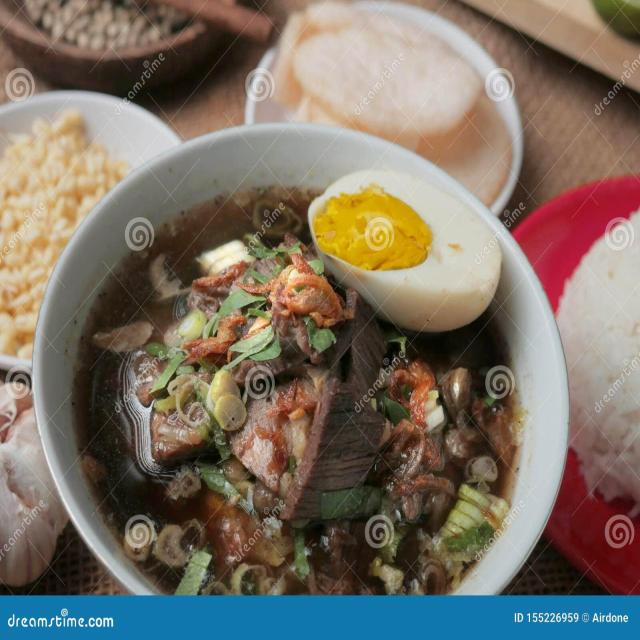Rawon: (101, 181, 495, 598)
